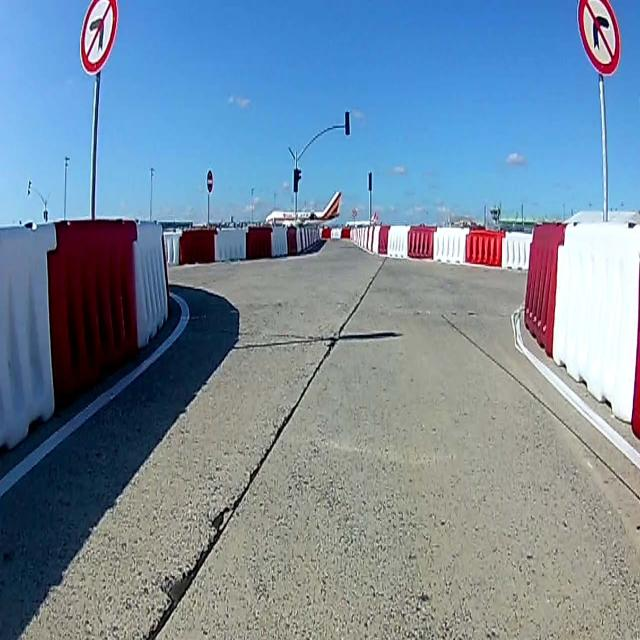sagadonulmez: (574, 1, 624, 86)
soladonulmez: (79, 0, 118, 76)
